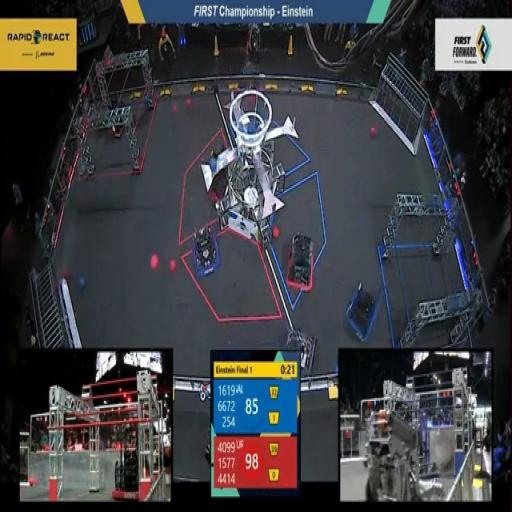robot: (280, 224, 326, 292), (342, 274, 382, 343), (186, 217, 222, 286), (281, 317, 314, 376), (106, 84, 127, 144)
